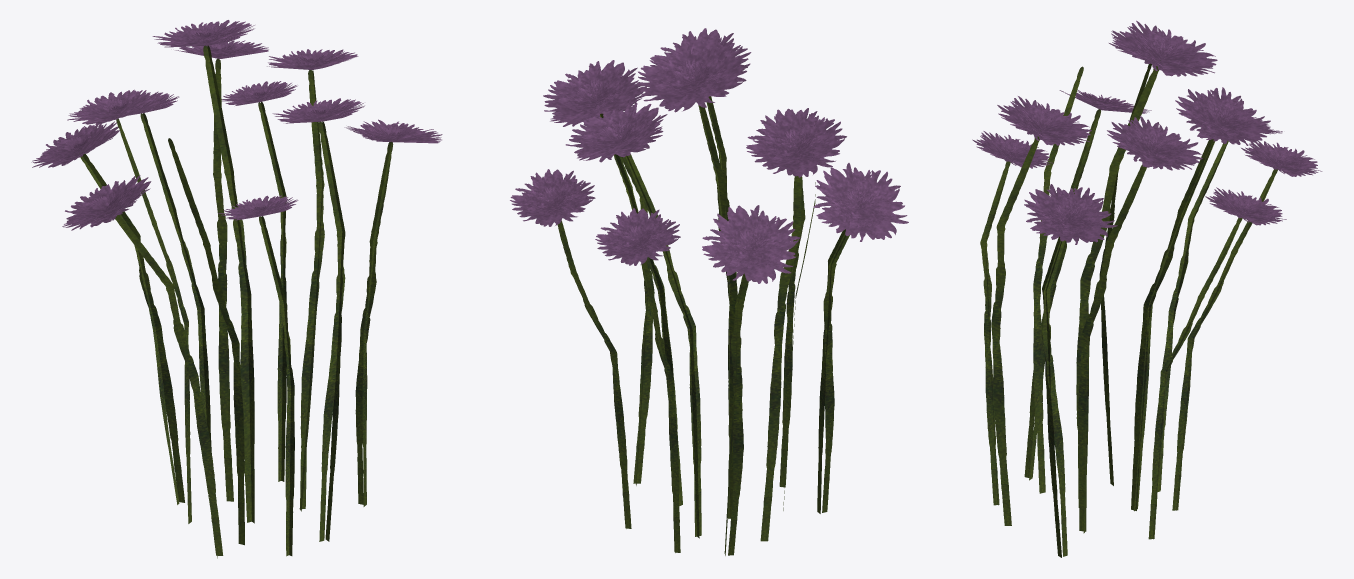
Rendered from SM_Lounge_Foliage_08.fbx.
3 views of the same model, side by side, from view 1: azimuth 30°, elevation 25°; view 2: azimuth 150°, elevation 25°; view 3: azimuth 270°, elevation 25° (orthographic). The views are drawn at different scales.
Visible parts, largest first — view 1: SM_Lounge_Foliage_08; view 2: SM_Lounge_Foliage_08; view 3: SM_Lounge_Foliage_08.
Boxes of the visible parts, box(x1,y1,x2,y2) form: SM_Lounge_Foliage_08: box(31, 20, 442, 558); SM_Lounge_Foliage_08: box(510, 28, 908, 555); SM_Lounge_Foliage_08: box(972, 20, 1322, 557).
Bounding box in the file's own units: 19.13 × 23.69 × 17.19.
1 material, 1 textured.
